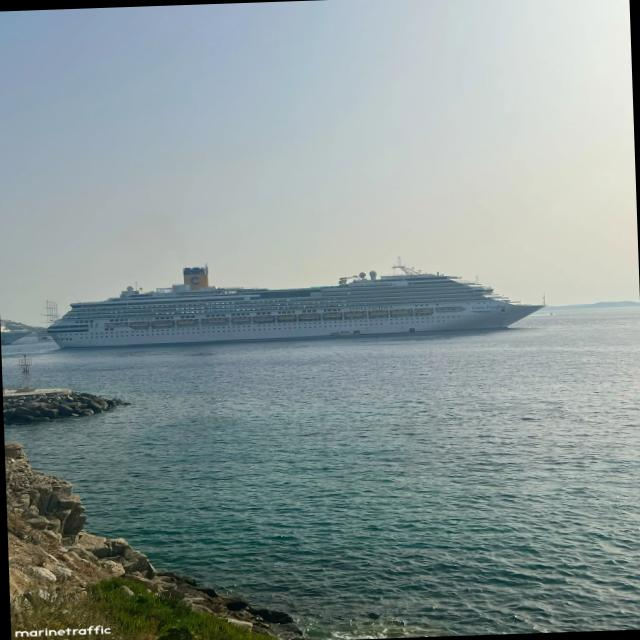Cruise: (46, 267, 544, 348)
